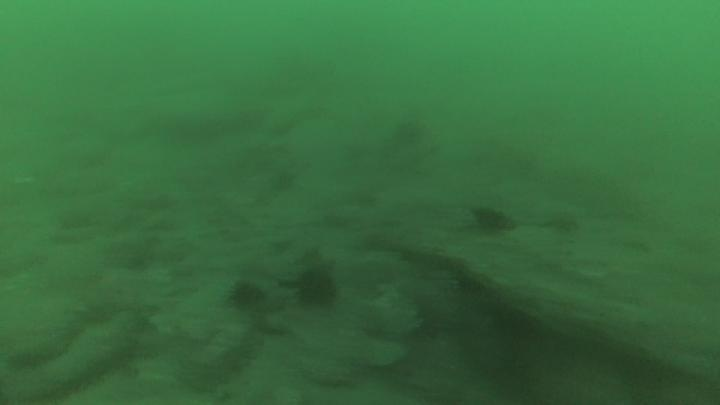echinus: (293, 266, 339, 310), (470, 203, 516, 237), (389, 116, 429, 153), (227, 278, 268, 311)
